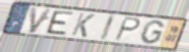E: (45, 10, 75, 37)
G: (138, 19, 166, 46)
I: (98, 14, 117, 42)
K: (70, 11, 96, 39)
P: (113, 16, 143, 42)
V: (29, 6, 54, 35)
